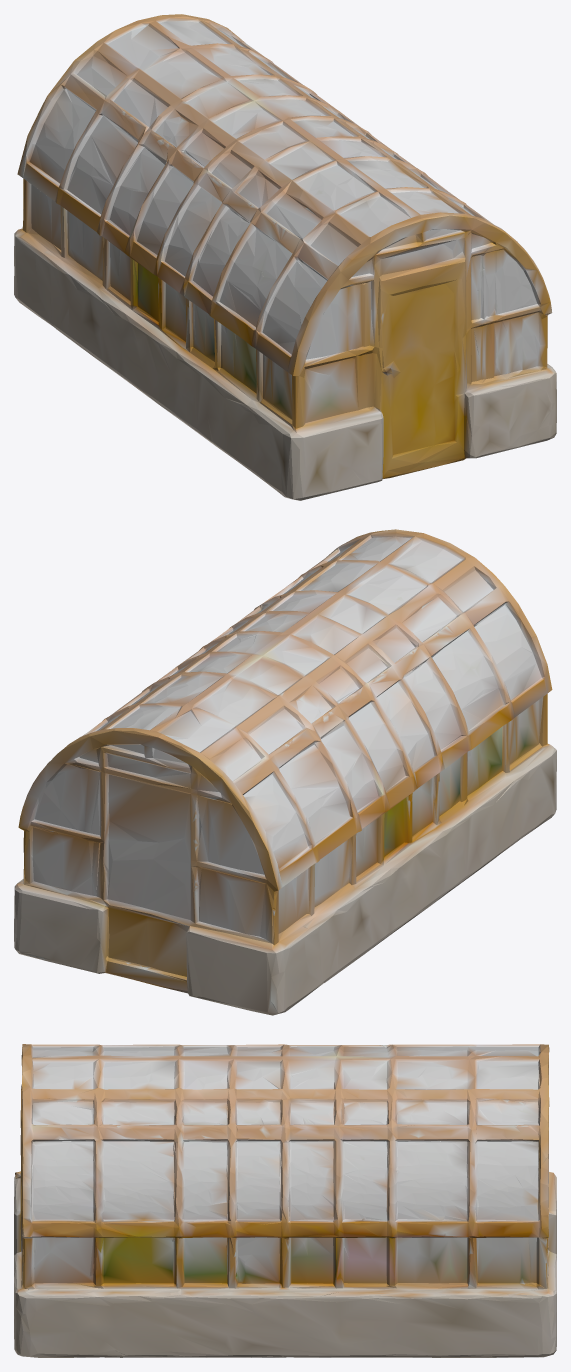
File: greenhouse.glb
3 renders of one model, top to bottom at view 1: azimuth 30°, elevation 25°; view 2: azimuth 150°, elevation 25°; view 3: azimuth 270°, elevation 25°, orthographic. The views are drawn at different scales.
Parts seen in each view (by area): view 1: geometry_0; view 2: geometry_0; view 3: geometry_0.
Boxes of the visible parts, left/top/right/bottom form: geometry_0: left=14, top=14, right=556, bottom=500; geometry_0: left=14, top=529, right=556, bottom=1015; geometry_0: left=14, top=1044, right=556, bottom=1357.
Bounding box in the file's own units: 1.1 × 0.9777 × 2.
